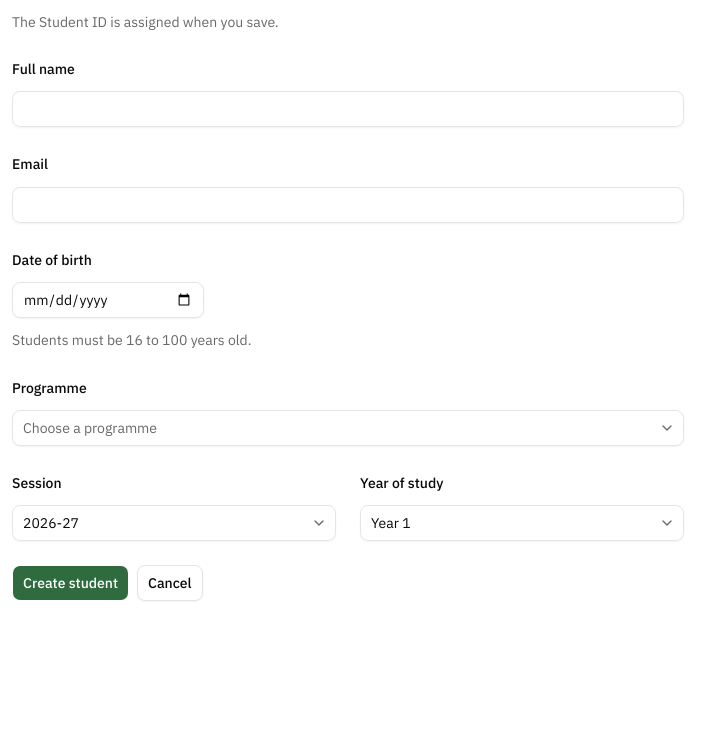
Test: new student form: validation › shows what is missing and sends nothing
Click the button "Create student": (70, 583) [12,565,129,601]
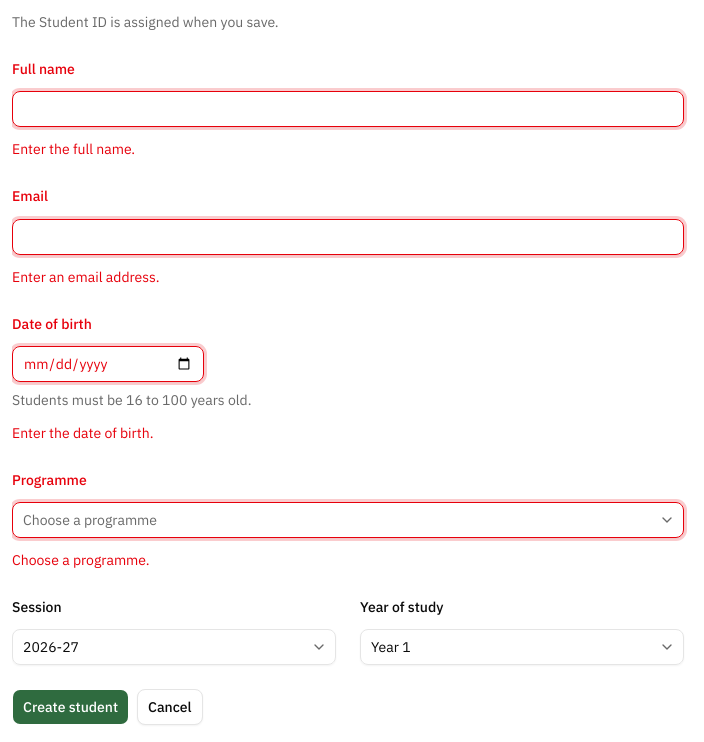
Expected: the text "Enter the full name." is shown, [12,140,135,158]
Expected: the text "Enter an email address." is shown, [12,268,160,286]
Expected: the text "Enter the date of birth." is shown, [12,424,154,442]
